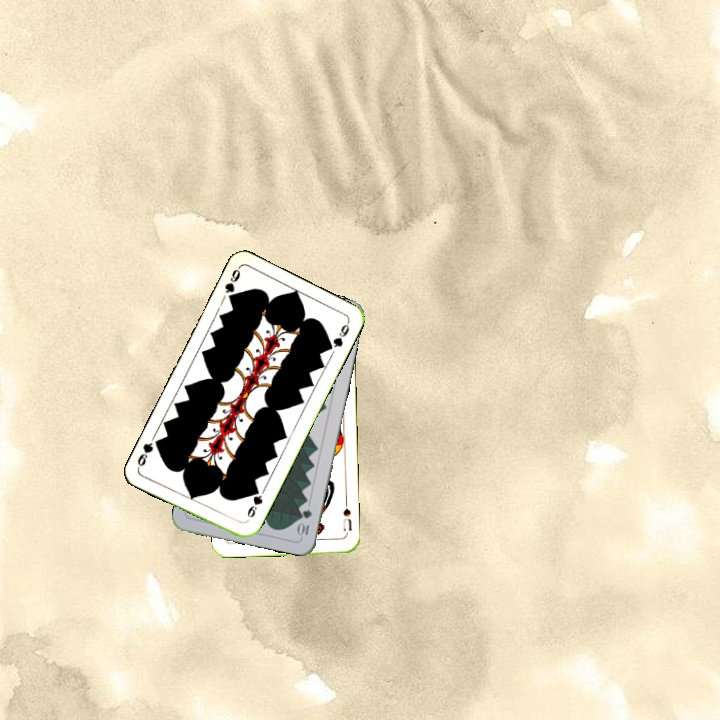G10: (295, 505, 314, 539)
G9: (220, 264, 243, 305), (243, 485, 265, 520)
SU: (339, 497, 354, 538)
